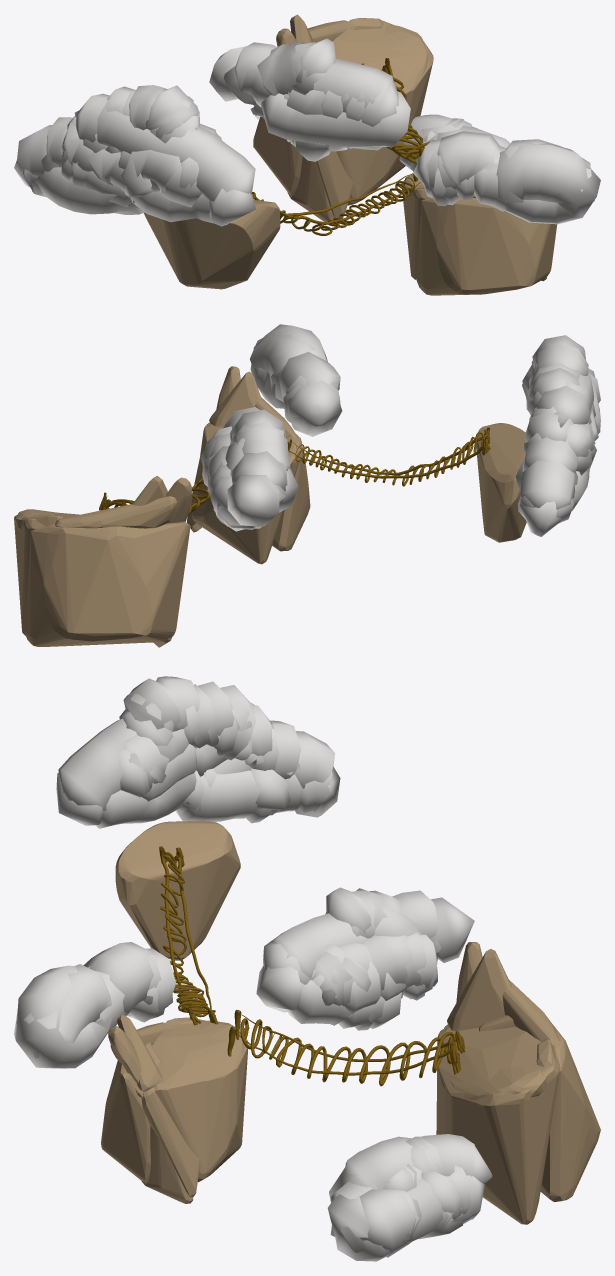
Rendered from cloud rocks.glb.
3 views of the same model, one above another, from view 1: azimuth 30°, elevation 25°; view 2: azimuth 150°, elevation 25°; view 3: azimuth 270°, elevation 25° (orthographic). The views are drawn at different scales.
Parts seen in each view (by area): view 1: brush_Icing_g0_b0, brush_MatteHull_g0_b0, brush_Wire_g0_b0; view 2: brush_MatteHull_g0_b0, brush_Icing_g0_b0, brush_Wire_g0_b0; view 3: brush_Icing_g0_b0, brush_MatteHull_g0_b0, brush_Wire_g0_b0.
Boxes of the visible parts, bbox=[...] form: brush_Icing_g0_b0: bbox=[14, 38, 600, 226]; brush_MatteHull_g0_b0: bbox=[144, 14, 557, 295]; brush_Wire_g0_b0: bbox=[252, 58, 430, 235]; brush_MatteHull_g0_b0: bbox=[14, 366, 526, 647]; brush_Icing_g0_b0: bbox=[200, 324, 600, 536]; brush_Wire_g0_b0: bbox=[99, 427, 490, 514]; brush_Icing_g0_b0: bbox=[14, 676, 492, 1261]; brush_MatteHull_g0_b0: bbox=[101, 820, 600, 1224]; brush_Wire_g0_b0: bbox=[159, 846, 464, 1086].
Bounding box in the file's own units: 1.04 × 0.5509 × 0.8637.
